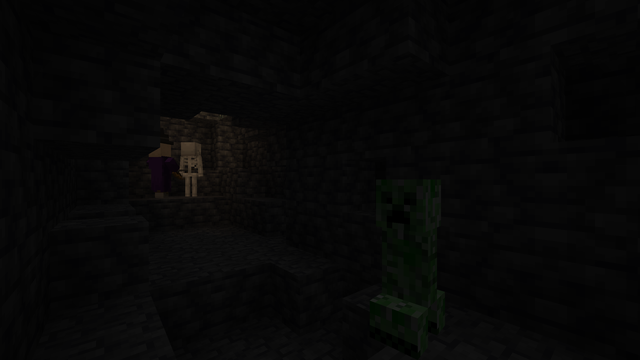creepers: (368, 171, 449, 358)
sorcieres: (148, 141, 170, 198)
squelettes: (180, 141, 201, 196)
